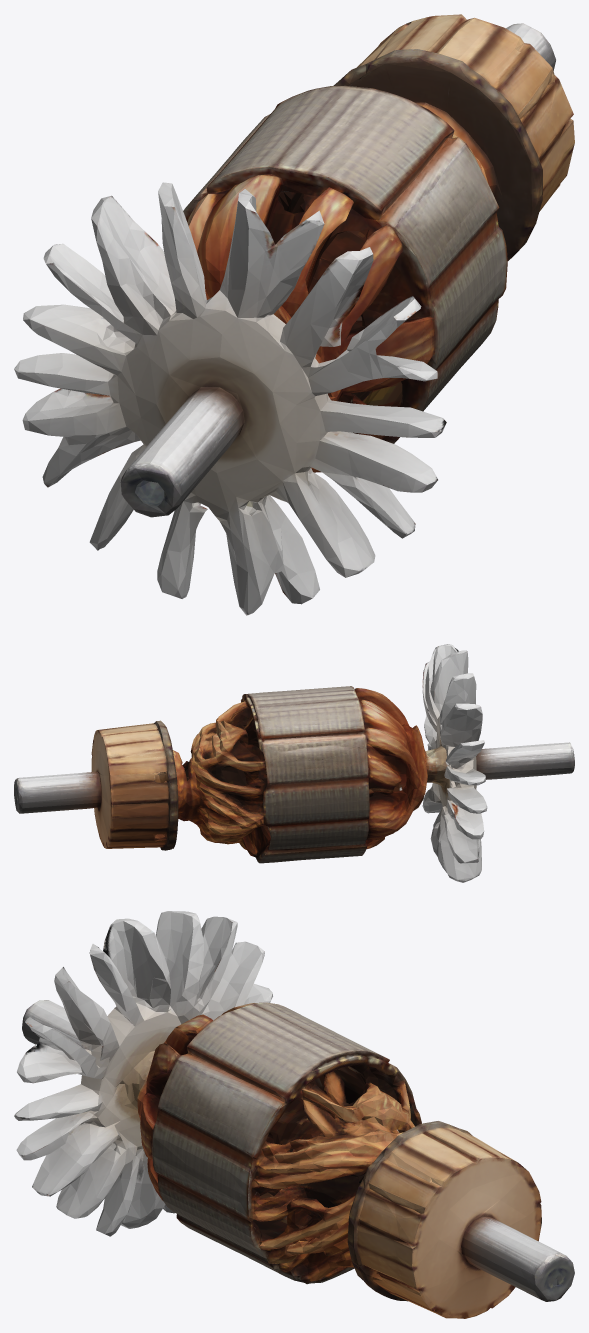
File: cobre.fbx
3 views of the same model, one above another, from view 1: azimuth 30°, elevation 25°; view 2: azimuth 150°, elevation 25°; view 3: azimuth 270°, elevation 25° (orthographic). The views are drawn at different scales.
Parts seen in each view (by area): view 1: geometry_0.001; view 2: geometry_0.001; view 3: geometry_0.001.
Boxes of the visible parts, x1=… form: geometry_0.001: x1=14, y1=14, x2=574, y2=615; geometry_0.001: x1=14, y1=644, x2=574, y2=882; geometry_0.001: x1=14, y1=911, x2=574, y2=1318.
Bounding box in the file's own units: 0.3689 × 0.1916 × 0.3182.
Materials: 1 (1 with a texture image).
